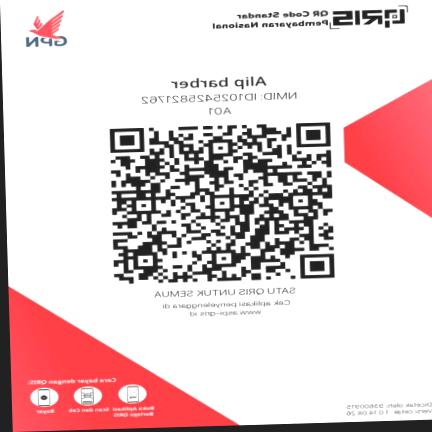Qris-Positioning: (1, 0, 432, 432)
